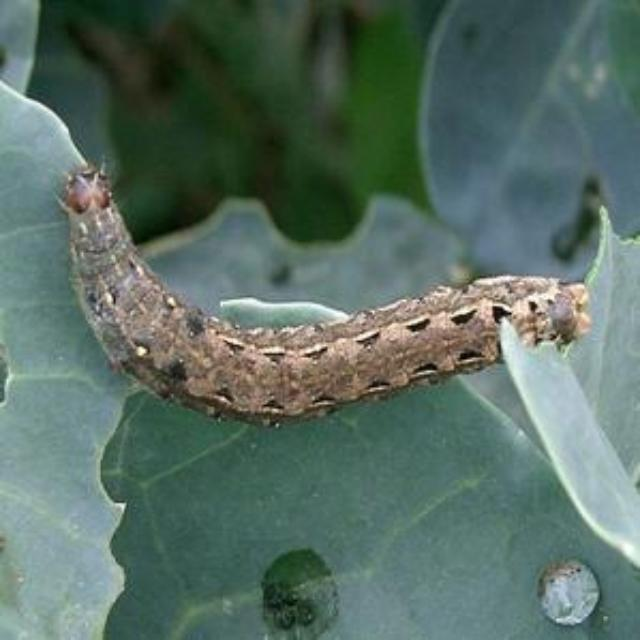Tobacco cutworm: (22, 114, 610, 466)
